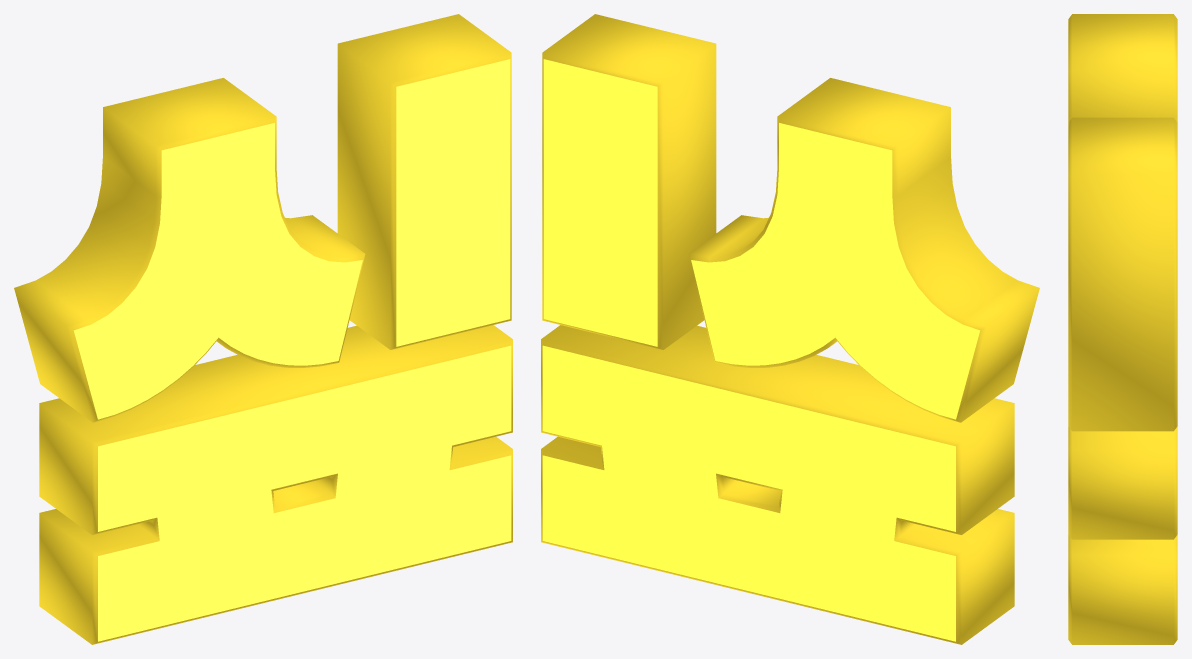
3 views of the same model, side by side, from view 1: azimuth 30°, elevation 25°; view 2: azimuth 150°, elevation 25°; view 3: azimuth 270°, elevation 25° (orthographic). The views are drawn at different scales.
Parts seen in each view (by area): view 1: glyph; view 2: glyph; view 3: glyph.
Boxes of the visible parts, <box> form: glyph: <box>14,14,512,644</box>; glyph: <box>541,14,1039,644</box>; glyph: <box>1068,14,1177,644</box>.
Bounding box in the file's own units: 0.1014 × 0.1064 × 0.0225.
